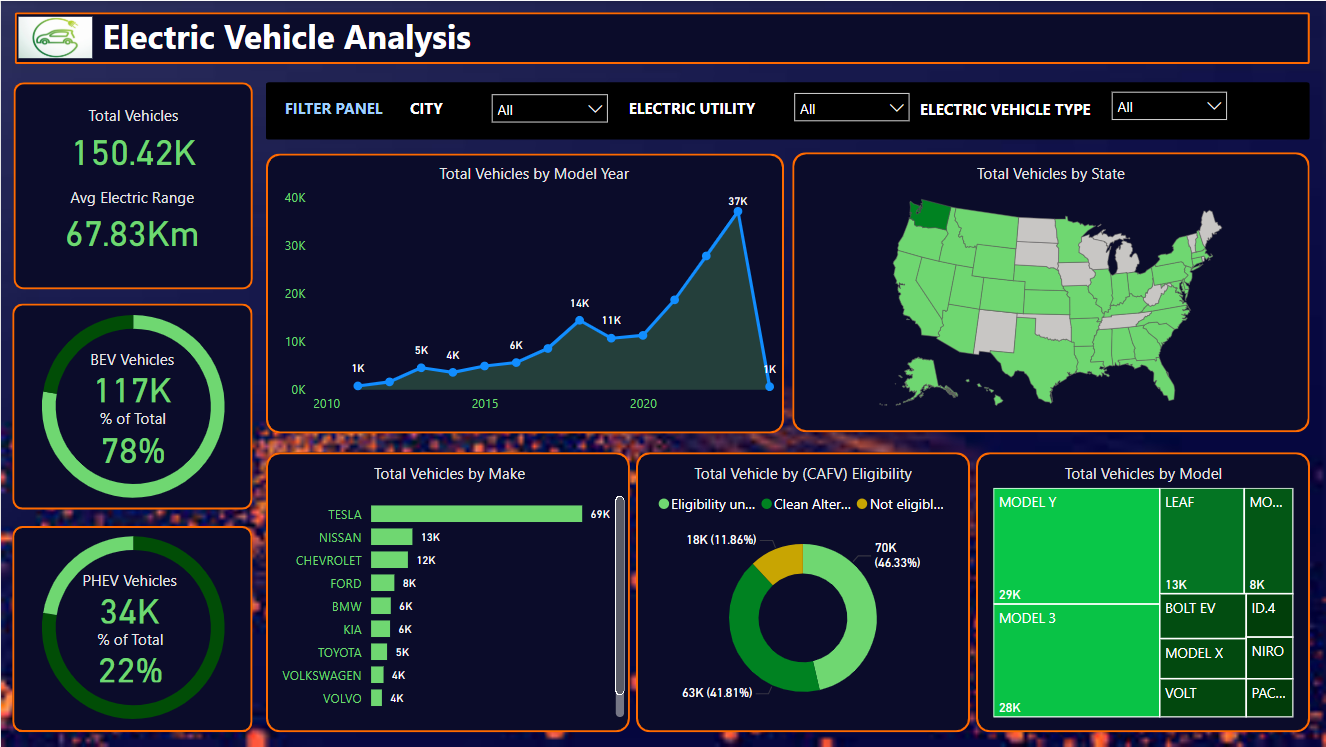

Layout of this report page (visuals, bound fields, positions):
{"tool":"powerbi","page":{"name":"Page 1","canvas":[1280,720],"ordinal":0},"visuals":[{"type":"shape","box":[13,11,1250,50],"z":0},{"type":"textbox","box":[92.9,7.2,383.6,55.5],"z":1000},{"type":"shape","box":[12.5,78.8,231,200],"z":2000},{"type":"card","title":"Total Vehicles","fields":{"Values":["Electric_Vehicle_Population_Data.Total Vehicles"]},"box":[24.1,100.1,207.5,67.6],"z":3000},{"type":"card","title":"Avg Electric Range","fields":{"Values":["Electric_Vehicle_Population_Data.Avg_range"]},"box":[27.7,178.6,197.9,67.6],"z":4000},{"type":"shape","box":[11,292.3,231.9,199],"z":5000},{"type":"shape","box":[11,506.3,231.9,199],"z":6000},{"type":"donutChart","fields":{"Category":["Electric_Vehicle_Population_Data.Electric Vehicle Type"],"Y":["Electric_Vehicle_Population_Data.Total Vehicles"]},"box":[0,276.3,255.8,230.4],"z":7000},{"type":"card","title":"BEV Vehicles","fields":{"Values":["Electric_Vehicle_Population_Data.BEV Vehicles"]},"box":[70,335.4,113.4,56.7],"z":8000},{"type":"card","title":"% of Total","fields":{"Values":["Electric_Vehicle_Population_Data.% of BEV"]},"box":[67.6,392.1,119.4,59.1],"z":9000},{"type":"donutChart","fields":{"Category":["Electric_Vehicle_Population_Data.Electric Vehicle Type"],"Y":["Electric_Vehicle_Population_Data.Total Vehicles"]},"box":[0,489.8,255.8,230.4],"z":10000},{"type":"card","title":"PHEV Vehicles","fields":{"Values":["Electric_Vehicle_Population_Data.PHEV Vehicles"]},"box":[67.6,548.9,113.4,56.7],"z":11000},{"type":"card","title":"% of Total","fields":{"Values":["Electric_Vehicle_Population_Data.% of PHEV"]},"box":[71.2,605.6,107.4,56.7],"z":12000},{"type":"shape","box":[255.8,78.4,1007.4,55.5],"z":13000},{"type":"shape","box":[255.8,147.2,500,270.2],"z":14000},{"type":"areaChart","fields":{"Category":["Electric_Vehicle_Population_Data.Model Year"],"Y":["Electric_Vehicle_Population_Data.Total Vehicles"]},"box":[269,155.6,491,250.9],"z":15000},{"type":"shape","box":[763.7,146,499.5,270.2],"z":16000},{"type":"shapeMap","fields":{"Category":["Electric_Vehicle_Population_Data.State"],"Value":["Electric_Vehicle_Population_Data.Total Vehicles"]},"box":[773.3,155.6,480.2,250.9],"z":17000},{"type":"shape","box":[255.2,435,351.3,270.3],"z":18000},{"type":"barChart","fields":{"Y":["Electric_Vehicle_Population_Data.Total Vehicles"],"Category":["Electric_Vehicle_Population_Data.Make"]},"box":[259.3,444.6,347.2,251.1],"z":19000},{"type":"shape","box":[613.4,435,322.5,270.3],"z":20000},{"type":"donutChart","title":"Total Vehicle by (CAFV) Eligibility","fields":{"Category":["Electric_Vehicle_Population_Data.Clean Alternative Fuel Vehicle (CAFV) Eligibility"],"Y":["Electric_Vehicle_Population_Data.Total Vehicles"]},"box":[623,444.6,303.3,251.1],"z":21000},{"type":"shape","box":[941.3,435,322.5,270.3],"z":22000},{"type":"treemap","fields":{"Group":["Electric_Vehicle_Population_Data.Model"],"Values":["Electric_Vehicle_Population_Data.Total Vehicles"]},"box":[953.7,444.6,299.1,251.1],"z":23000},{"type":"textbox","box":[269,87.8,130.4,37],"z":24000},{"type":"slicer","fields":{"Values":["Electric_Vehicle_Population_Data.City"]},"box":[463.3,79.6,132.7,47.1],"z":25000},{"type":"textbox","box":[389.7,87.8,74.1,37],"z":26000},{"type":"textbox","box":[601,87.8,144.1,37],"z":27000},{"type":"slicer","fields":{"Values":["Electric_Vehicle_Population_Data.Electric Utility"]},"box":[754.7,78.2,131.7,46.7],"z":28000},{"type":"textbox","box":[882.3,89.2,194.9,37],"z":29000},{"type":"slicer","fields":{"Values":["Electric_Vehicle_Population_Data.Electric Vehicle Type"]},"box":[1062.1,76.8,131.7,46.7],"z":30000},{"type":"image","box":[12.3,2.7,81,65.9],"z":31000}]}

Visuals, with their boxes in screenshot pixels (x1, y1, x2, y2), scaled from the page's 1280x720 canvas onto the 1326x747 screenshot:
shape: [13, 11, 1308, 63]
textbox: [96, 7, 494, 65]
shape: [13, 82, 252, 289]
"Total Vehicles" card: [25, 104, 240, 174]
"Avg Electric Range" card: [29, 185, 234, 255]
shape: [11, 303, 252, 510]
shape: [11, 525, 252, 732]
donutChart - Electric_Vehicle_Population_Data.Electric Vehicle Type x Electric_Vehicle_Population_Data.Total Vehicles: [0, 287, 265, 526]
"BEV Vehicles" card: [73, 348, 190, 407]
"% of Total" card: [70, 407, 194, 468]
donutChart - Electric_Vehicle_Population_Data.Electric Vehicle Type x Electric_Vehicle_Population_Data.Total Vehicles: [0, 508, 265, 746]
"PHEV Vehicles" card: [70, 569, 188, 628]
"% of Total" card: [74, 628, 185, 687]
shape: [265, 81, 1309, 139]
shape: [265, 153, 783, 433]
areaChart - Electric_Vehicle_Population_Data.Model Year x Electric_Vehicle_Population_Data.Total Vehicles: [279, 161, 787, 422]
shape: [791, 151, 1309, 432]
shapeMap - Electric_Vehicle_Population_Data.State x Electric_Vehicle_Population_Data.Total Vehicles: [801, 161, 1299, 422]
shape: [264, 451, 628, 732]
barChart - Electric_Vehicle_Population_Data.Total Vehicles x Electric_Vehicle_Population_Data.Make: [269, 461, 628, 722]
shape: [635, 451, 970, 732]
"Total Vehicle by (CAFV) Eligibility" donutChart: [645, 461, 960, 722]
shape: [975, 451, 1309, 732]
treemap - Electric_Vehicle_Population_Data.Model x Electric_Vehicle_Population_Data.Total Vehicles: [988, 461, 1298, 722]
textbox: [279, 91, 414, 129]
slicer - Electric_Vehicle_Population_Data.City: [480, 83, 617, 131]
textbox: [404, 91, 480, 129]
textbox: [623, 91, 772, 129]
slicer - Electric_Vehicle_Population_Data.Electric Utility: [782, 81, 918, 130]
textbox: [914, 93, 1116, 131]
slicer - Electric_Vehicle_Population_Data.Electric Vehicle Type: [1100, 80, 1237, 128]
image: [13, 3, 97, 71]
